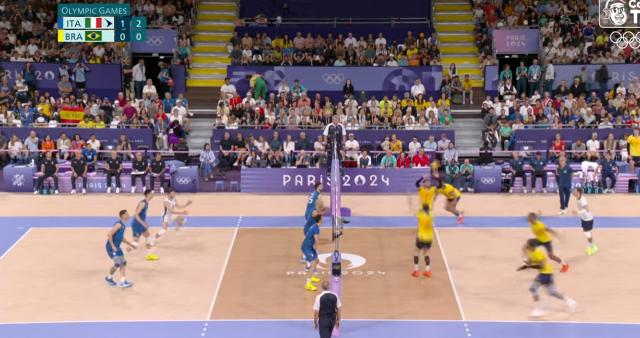Levantador: (413, 174, 442, 202)
Libero: (572, 186, 600, 258), (162, 189, 180, 232)
bola: (429, 158, 438, 170)
